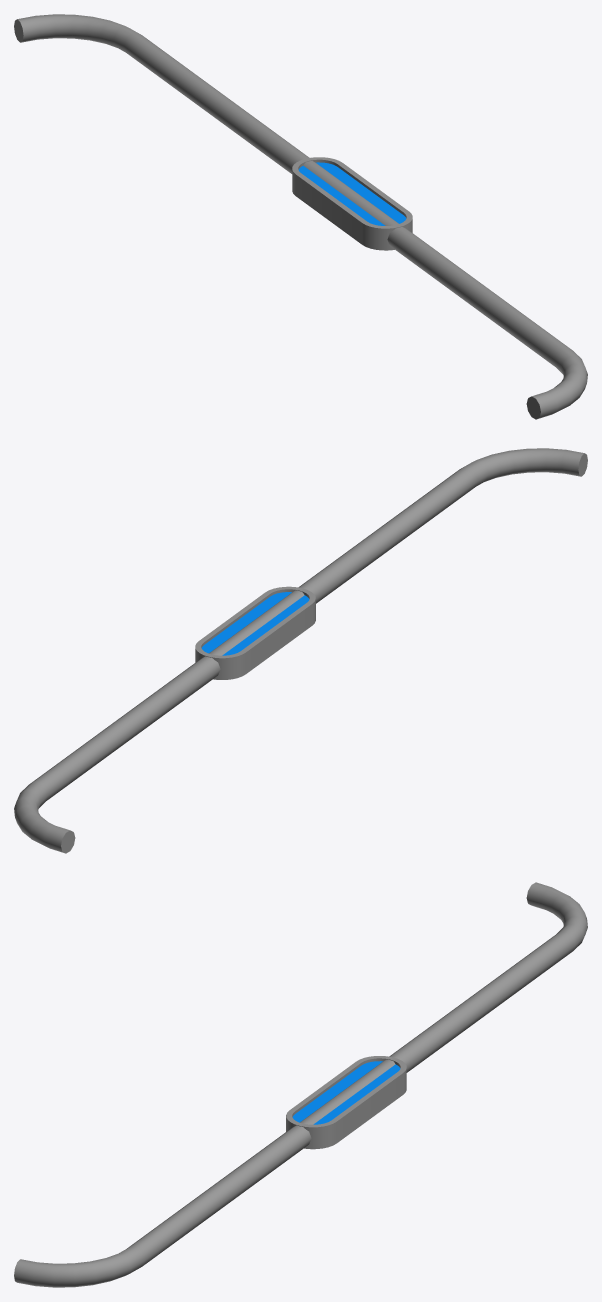
Rendered from Handle_Base.FBX.
3 renders of one model, top to bottom at view 1: azimuth 30°, elevation 25°; view 2: azimuth 150°, elevation 25°; view 3: azimuth 330°, elevation 25°, orthographic.
Parts seen in each view (by area): view 1: Handle, HandleActive, HandleInsert; view 2: Handle, HandleActive, HandleInsert; view 3: Handle, HandleActive, HandleInsert.
Part boxes in pixels (x1,y1,x2,y2): Handle: (14,14,587,419); HandleActive: (292,157,412,250); HandleInsert: (298,162,406,225); Handle: (14,448,587,853); HandleActive: (195,586,315,679); HandleInsert: (201,592,309,655); Handle: (14,882,587,1287); HandleActive: (286,1056,406,1149); HandleInsert: (292,1061,400,1124).
Size of the model in its own units: 0.7374 by 0.1575 by 6.88.
